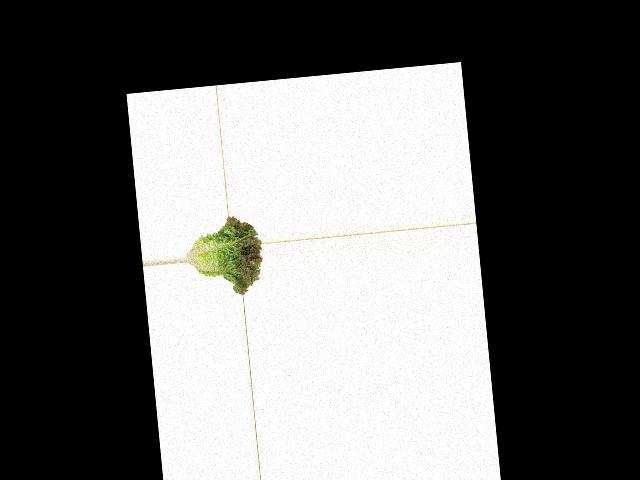lettuce: (182, 214, 265, 299)
